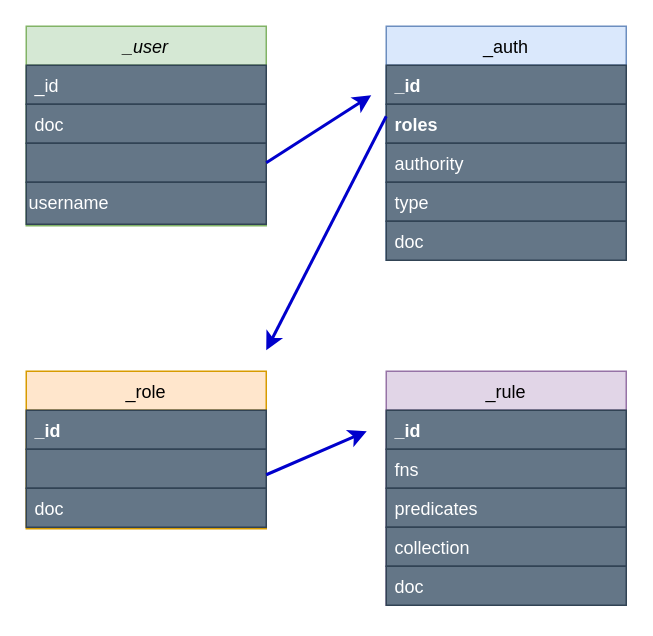
Image size: 653x636. Some labels were removed from this diagram. Here are the shapes that lost their labels. From the top down, the centre of each, then its label:
At [145,162]: "auth".
At [145,468]: "rules".
